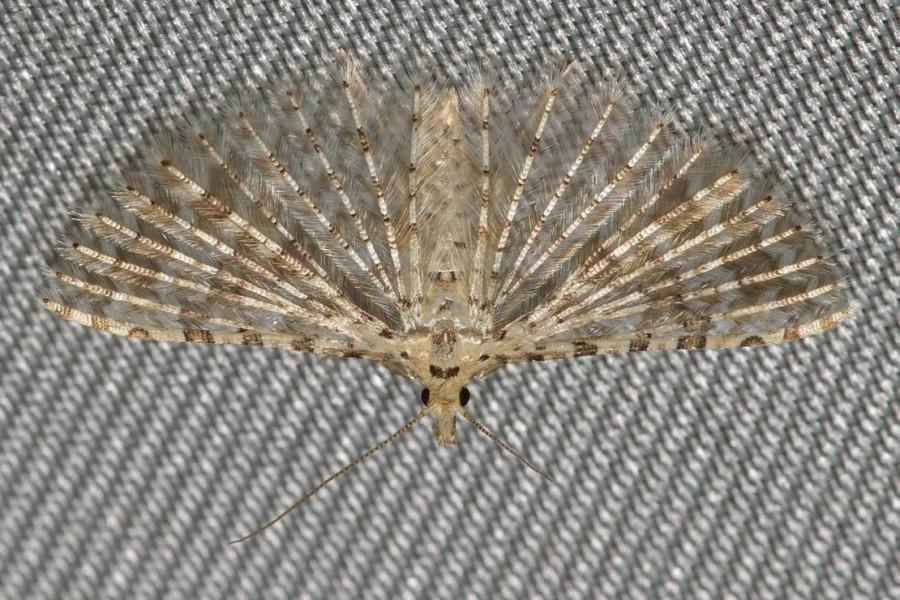Alucitidae: (44, 32, 851, 544)
moth: (46, 34, 853, 546)
